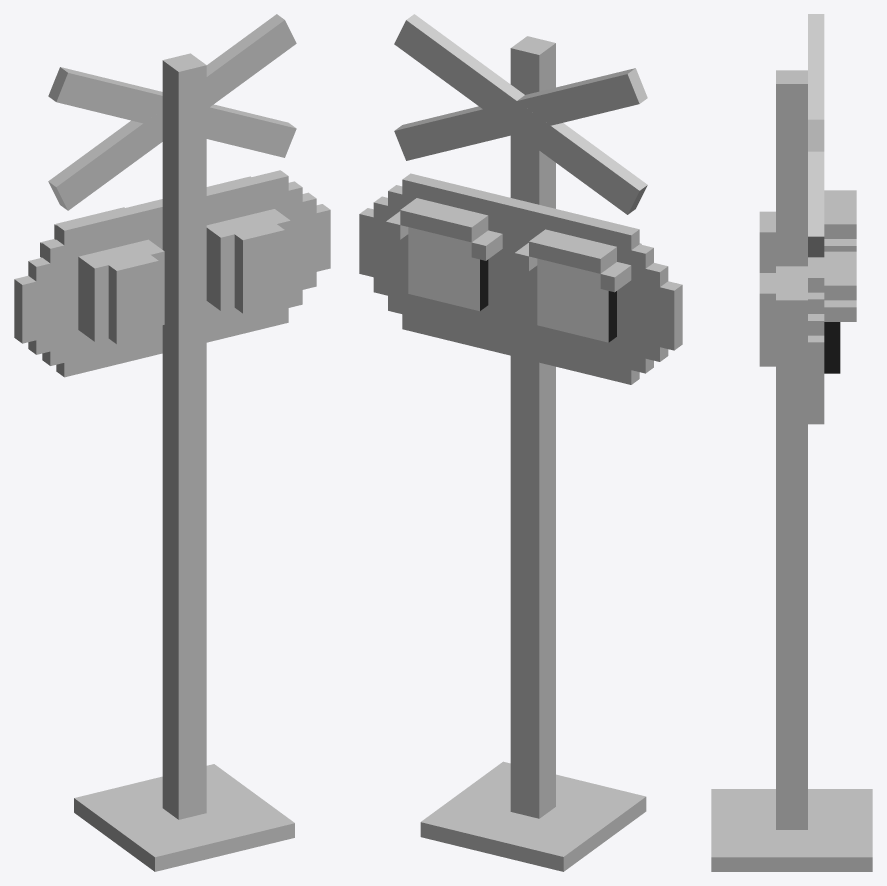
Rendered from polish_crossing_with_cross1.obj.
3 renders of one model, left to right at view 1: azimuth 30°, elevation 25°; view 2: azimuth 150°, elevation 25°; view 3: azimuth 270°, elevation 25°, orthographic. The views are drawn at different scales.
Visible parts, largest first — view 1: pole, cube, shield, base, light chamber left, light chamber right; view 2: cube, pole, shield, base, light left, light right, top cover right, top cover left; view 3: pole, base, cube, light chamber right, top cover right, top cover left, light left, shield.
Boxes of the visible parts, left/top/right/bottom form: pole: left=162, top=53, right=206, bottom=819; cube: left=14, top=14, right=330, bottom=365; shield: left=56, top=170, right=288, bottom=377; base: left=74, top=764, right=294, bottom=871; light chamber left: left=78, top=239, right=164, bottom=341; light chamber right: left=206, top=209, right=290, bottom=310; cube: left=359, top=14, right=682, bottom=373; pole: left=510, top=36, right=555, bottom=818; shield: left=402, top=173, right=639, bottom=384; base: left=420, top=761, right=646, bottom=871; light left: left=408, top=227, right=488, bottom=311; light right: left=537, top=258, right=616, bottom=342; top cover right: left=400, top=198, right=488, bottom=242; top cover left: left=529, top=229, right=616, bottom=273; pole: left=776, top=70, right=807, bottom=829; base: left=711, top=789, right=872, bottom=871; cube: left=759, top=14, right=856, bottom=416; light chamber right: left=776, top=266, right=807, bottom=373; top cover right: left=824, top=251, right=856, bottom=300; top cover left: left=824, top=190, right=856, bottom=238; light left: left=824, top=322, right=840, bottom=373; shield: left=808, top=257, right=824, bottom=424.
Bounding box in the file's own units: 1.38 × 3.29 × 0.625.
